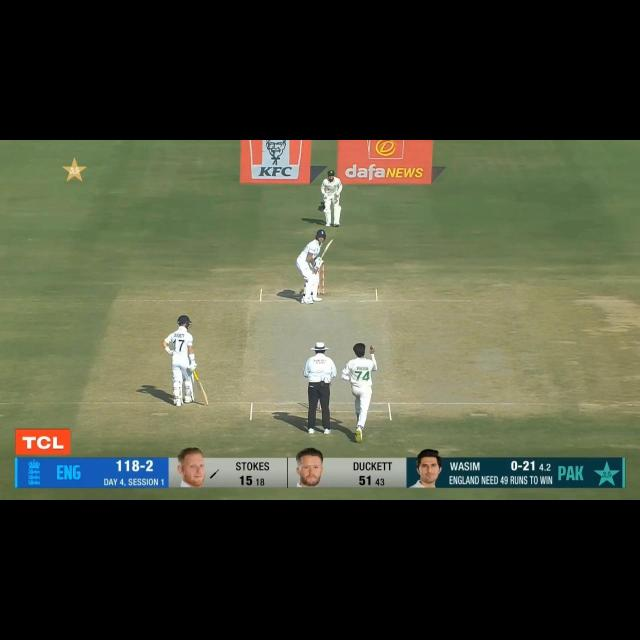bat: (194, 379, 212, 404), (320, 238, 334, 258)
toe: (325, 238, 335, 247), (202, 395, 208, 404)
